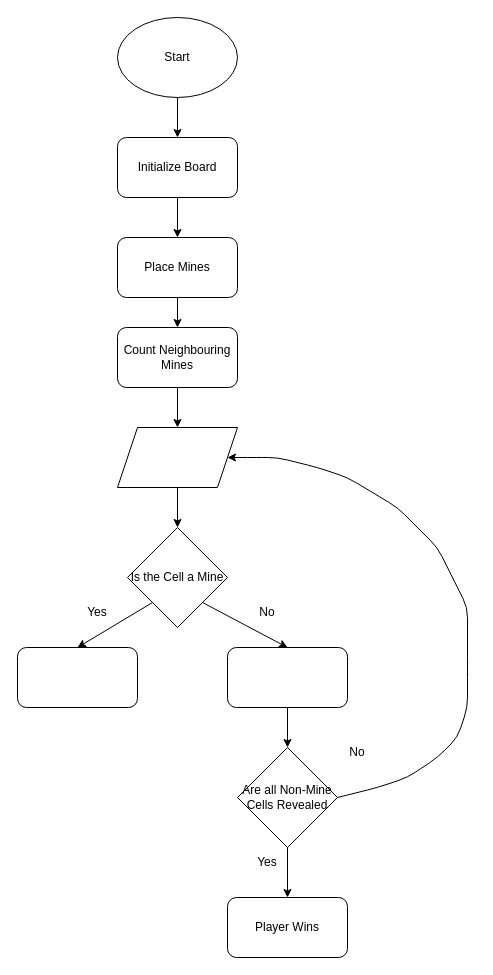
This 493x975 diagram has some shape labels left out. Here are the shapes that lost their labels. From the top down, the centre of each, then its label:
At point 177,457: "Get User Input to Reveal a Cell".
At point 77,677: "Game Over".
At point 287,677: "Reveal Cell and Update Board".
